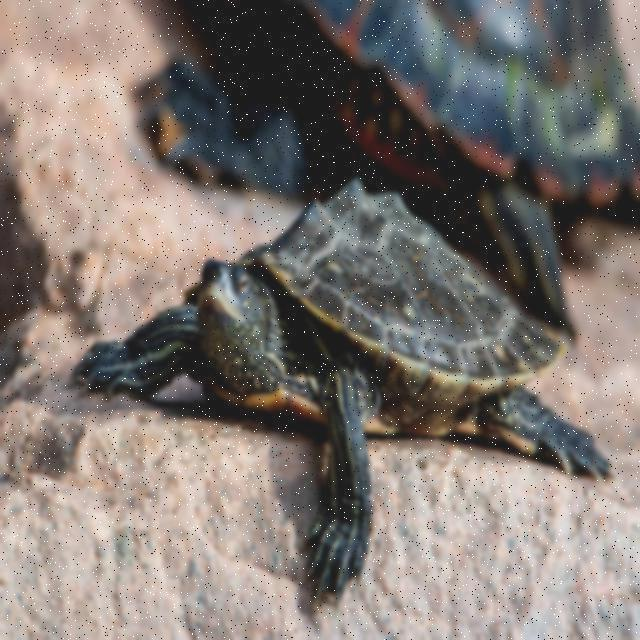tortoise: (63, 163, 621, 599)
